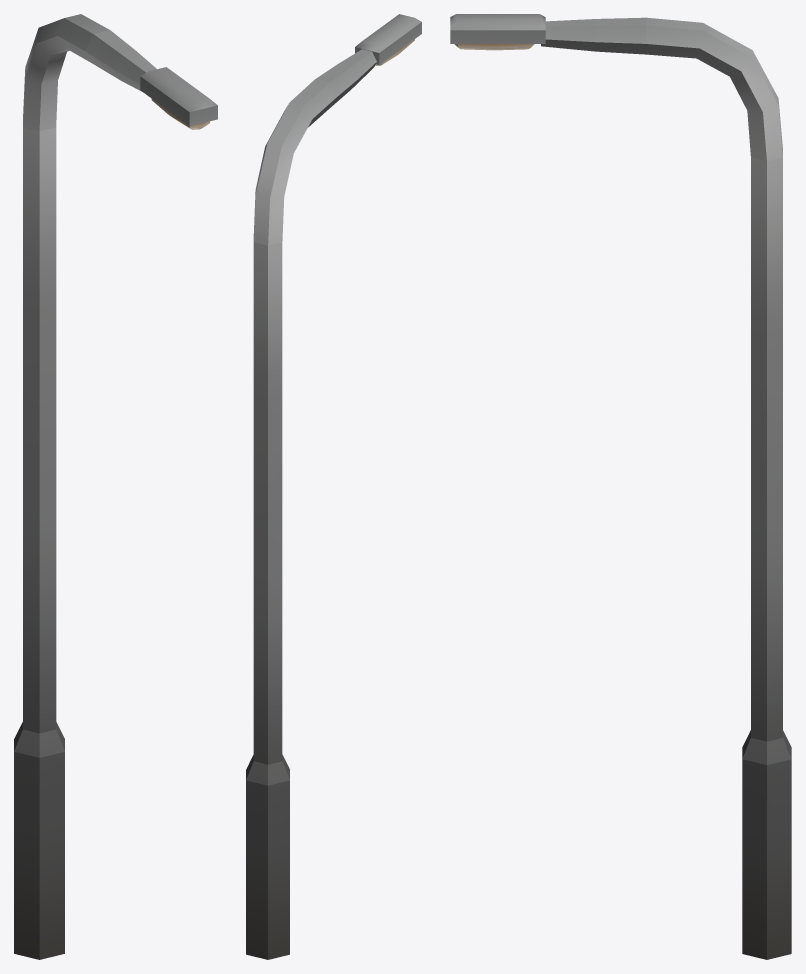
File: Street_Light_FBX.fbx
The picture shows the model from 3 angles, left to right: view 1: azimuth 30°, elevation 25°; view 2: azimuth 150°, elevation 25°; view 3: azimuth 270°, elevation 25°; orthographic projection. The views are drawn at different scales.
Visible parts, largest first — view 1: pCube168; view 2: pCube168; view 3: pCube168.
Boxes of the visible parts, x1,y1,x2,y2 form: pCube168: (14,14,217,959); pCube168: (246,14,421,959); pCube168: (450,14,791,959).
Size of the model in its own units: 27.94 by 504 by 168.
